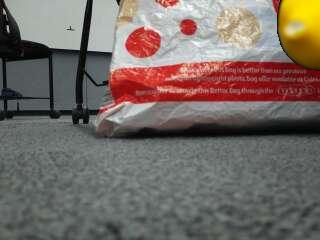lemon: (277, 1, 318, 72)
